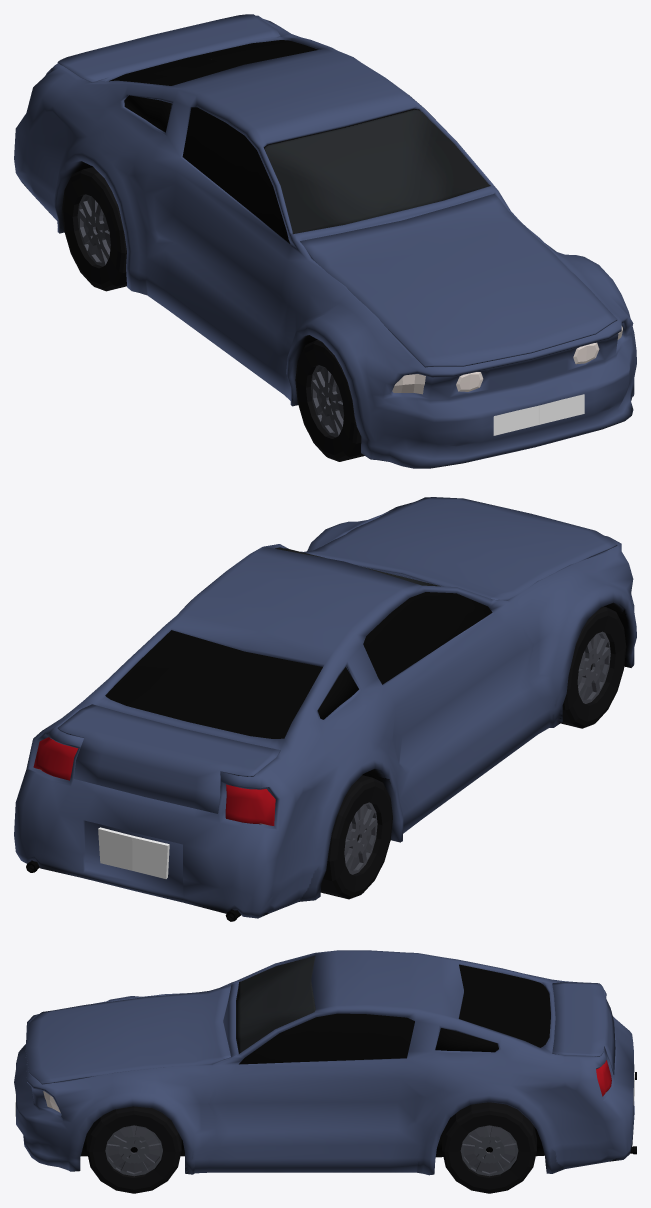
File: Car.obj
3 views of the same model, one above another, from view 1: azimuth 30°, elevation 25°; view 2: azimuth 150°, elevation 25°; view 3: azimuth 270°, elevation 25° (orthographic). The views are drawn at different scales.
Visible parts, largest first — view 1: Body_Plane, Hood_Plane.007, Windscreen_Plane.006, Side_windows_Plane.005, Trunk_Plane.011, Tire.003_Cylinder.006, Tire.001_Cylinder.002, Body.006_Plane.014, Body.003_Plane.010, Rim.003_Cylinder.007, Rim.001_Cylinder.003, Body.005_Plane.013 (+1 smaller); view 2: Body_Plane, Hood_Plane.007, Body.006_Plane.014, Trunk_Plane.011, Side_windows_Plane.005, Tire.003_Cylinder.006, Tire.001_Cylinder.002, Body.007_Plane.015, Body.004_Plane.012, Rim.003_Cylinder.007, Rim.001_Cylinder.003, Body.005_Plane.013; view 3: Body_Plane, Hood_Plane.007, Side_windows_Plane.005, Body.006_Plane.014, Windscreen_Plane.006, Tire.002_Cylinder.004, Tire_Cylinder, Trunk_Plane.011, Rim.002_Cylinder.005, Rim_Cylinder.001, Body.005_Plane.013, Body.007_Plane.015.
Part boxes in pixels (x1,y1,x2,y2): Body_Plane: (14, 15, 636, 468); Hood_Plane.007: (300, 193, 617, 367); Windscreen_Plane.006: (264, 109, 490, 234); Side_windows_Plane.005: (182, 107, 290, 243); Trunk_Plane.011: (57, 14, 280, 82); Tire.003_Cylinder.006: (62, 167, 126, 291); Tire.001_Cylinder.002: (295, 340, 364, 461); Body.006_Plane.014: (109, 40, 318, 85); Body.003_Plane.010: (493, 394, 584, 435); Rim.003_Cylinder.007: (77, 194, 110, 266); Rim.001_Cylinder.003: (311, 365, 343, 437); Body.005_Plane.013: (124, 95, 171, 132); Body_Plane: (14, 502, 636, 918); Hood_Plane.007: (303, 497, 617, 600); Body.006_Plane.014: (105, 630, 322, 738); Trunk_Plane.011: (57, 704, 280, 813); Side_windows_Plane.005: (363, 592, 492, 684); Tire.003_Cylinder.006: (320, 775, 392, 899); Tire.001_Cylinder.002: (561, 606, 626, 728); Body.007_Plane.015: (33, 737, 275, 825); Body.004_Plane.012: (98, 827, 169, 878); Rim.003_Cylinder.007: (344, 802, 377, 874); Rim.001_Cylinder.003: (577, 631, 610, 703); Body.005_Plane.013: (317, 667, 358, 719); Body_Plane: (14, 950, 634, 1175); Hood_Plane.007: (25, 985, 230, 1084); Side_windows_Plane.005: (239, 1013, 414, 1064); Body.006_Plane.014: (459, 964, 550, 1047); Windscreen_Plane.006: (236, 956, 315, 1053); Tire.002_Cylinder.004: (442, 1102, 536, 1193); Tire_Cylinder: (86, 1106, 181, 1193); Trunk_Plane.011: (552, 982, 615, 1074); Rim.002_Cylinder.005: (460, 1125, 518, 1176); Rim_Cylinder.001: (105, 1125, 162, 1176); Body.005_Plane.013: (435, 1028, 498, 1052); Body.007_Plane.015: (596, 1060, 611, 1096).
Bounding box in the file's own units: 1.95 × 1.47 × 4.96.
